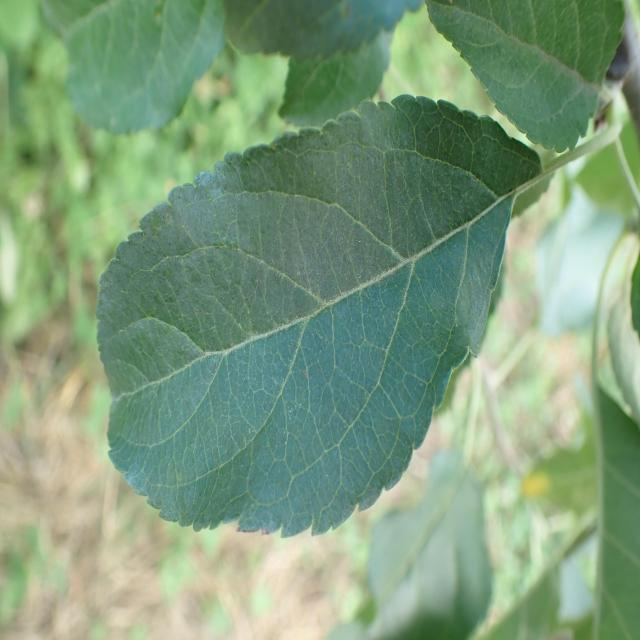healthy: (96, 93, 542, 536), (424, 0, 626, 155), (40, 0, 226, 135), (221, 0, 424, 60)
